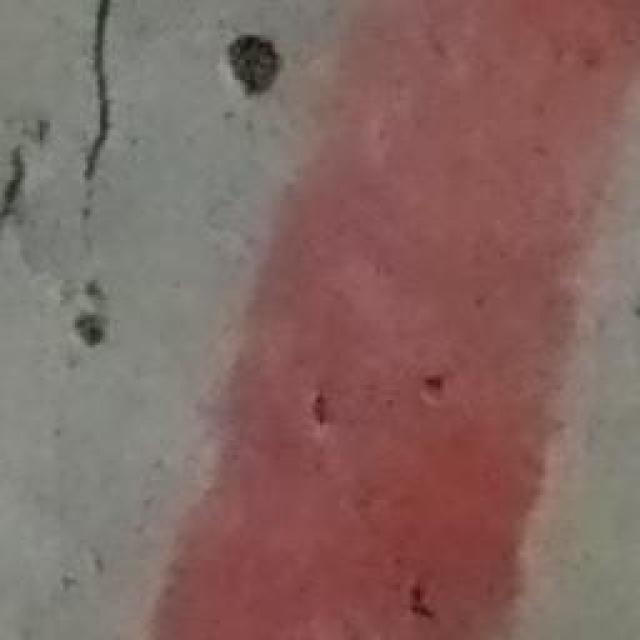Longitudinal: (55, 0, 130, 392)
